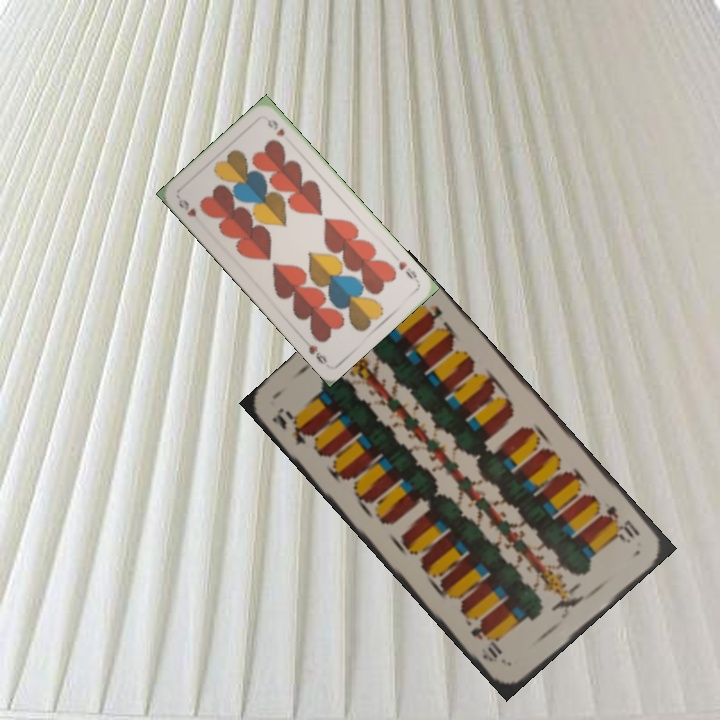E10: (267, 403, 319, 450), (601, 501, 643, 545)
H9: (394, 257, 420, 282), (174, 195, 199, 220)
